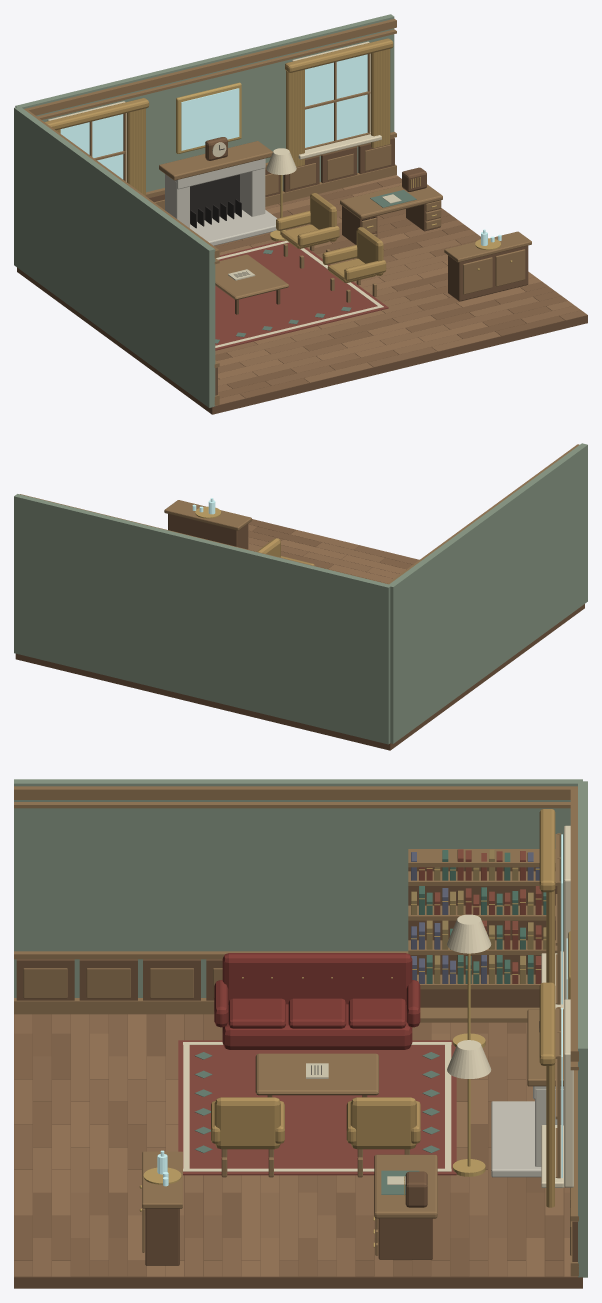
File: interior-cypress.glb
The picture shows the model from 3 angles, top to bottom: view 1: azimuth 30°, elevation 25°; view 2: azimuth 150°, elevation 25°; view 3: azimuth 270°, elevation 25°; orthographic projection. The views are drawn at different scales.
Visible parts, largest first — view 1: west wallpaper, north molding, north wallpaper, window glass, Persian rug, curtain pleat, chair leg, floor foundation, parquet.002, parquet.001, parquet.016, parquet (+13 smaller); view 2: north wallpaper, west wallpaper, floor foundation, parquet.016, parquet.002, chair leg, parquet.005, parquet.001, west molding, parquet.003, north molding; view 3: west wallpaper, west molding, sofa base, Persian rug, parquet.001, floor foundation, parquet.002, parquet, parquet.016, chair leg, parquet.003, parquet.005 (+16 smaller).
Boxes of the visible parts, box(x1,y1,x2,y2) form: west wallpaper: box(14, 106, 215, 407); north molding: box(24, 18, 396, 209); north wallpaper: box(15, 14, 394, 192); window glass: box(60, 54, 367, 179); Persian rug: box(215, 240, 388, 350); curtain pleat: box(45, 38, 393, 195); chair leg: box(215, 184, 531, 302); floor foundation: box(17, 167, 587, 414); parquet.002: box(218, 217, 574, 385); parquet.001: box(214, 177, 567, 398); parquet.016: box(217, 175, 541, 379); parquet: box(215, 204, 580, 405); north wallpaper: box(14, 494, 391, 744); west wallpaper: box(388, 443, 587, 743); floor foundation: box(15, 514, 584, 750); parquet.016: box(281, 539, 405, 583); parquet.002: box(248, 530, 384, 571); chair leg: box(164, 500, 251, 530); parquet.005: box(248, 519, 321, 546); parquet.001: box(248, 530, 412, 569); west molding: box(387, 444, 579, 583); parquet.003: box(354, 545, 419, 564); north molding: box(20, 494, 389, 584); west wallpaper: box(14, 779, 582, 997); west molding: box(14, 786, 577, 1022); sofa base: box(214, 953, 420, 1049); Persian rug: box(178, 1040, 456, 1175); parquet.001: box(14, 1014, 563, 1276); floor foundation: box(14, 1014, 582, 1288); parquet.002: box(14, 1014, 534, 1276); parquet: box(14, 1014, 569, 1276); parquet.016: box(52, 1014, 577, 1276); chair leg: box(142, 1053, 437, 1255); parquet.003: box(14, 1014, 569, 1276); parquet.005: box(14, 1014, 563, 1276).
Size of the model in its own units: 10.08 by 4.19 by 9.08.
